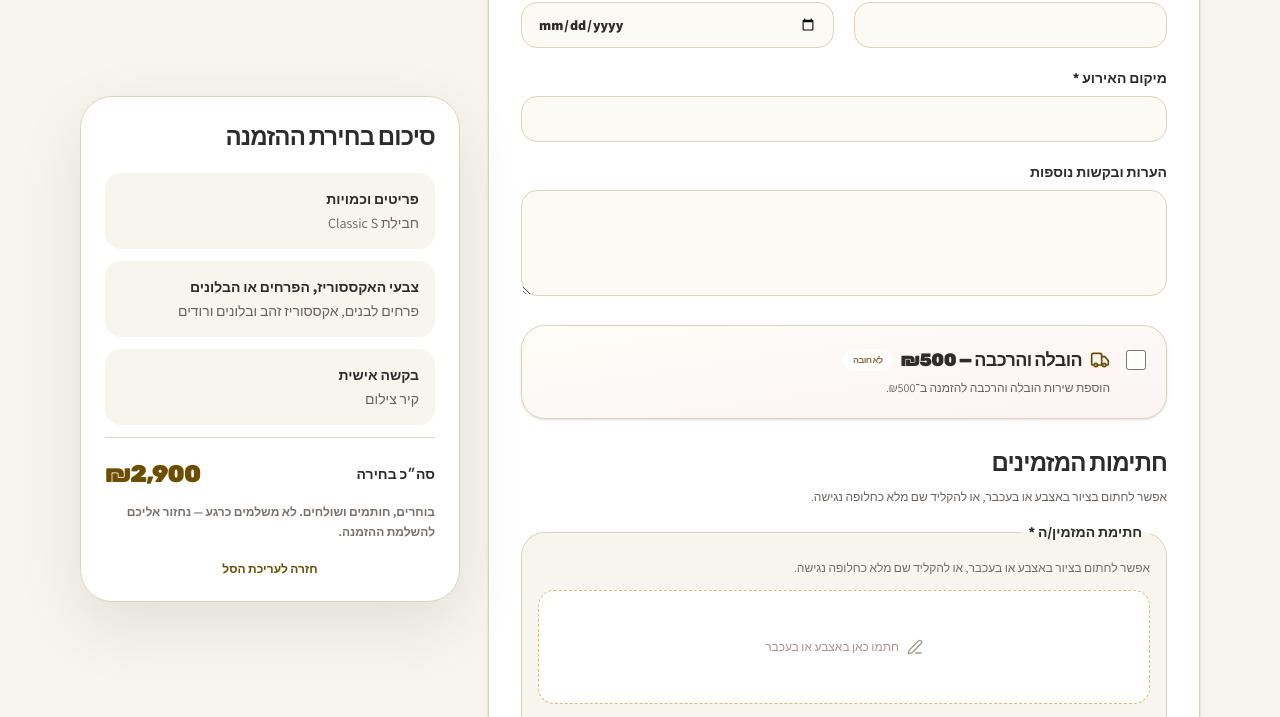
Test: CheckoutPage › adds optional delivery and setup for exactly ₪500
(page scrolled)
Click the checkbox labelled "הוספת שירות הובלה והרכבה".
click(1136, 360)  # box [1126, 350, 1146, 370]
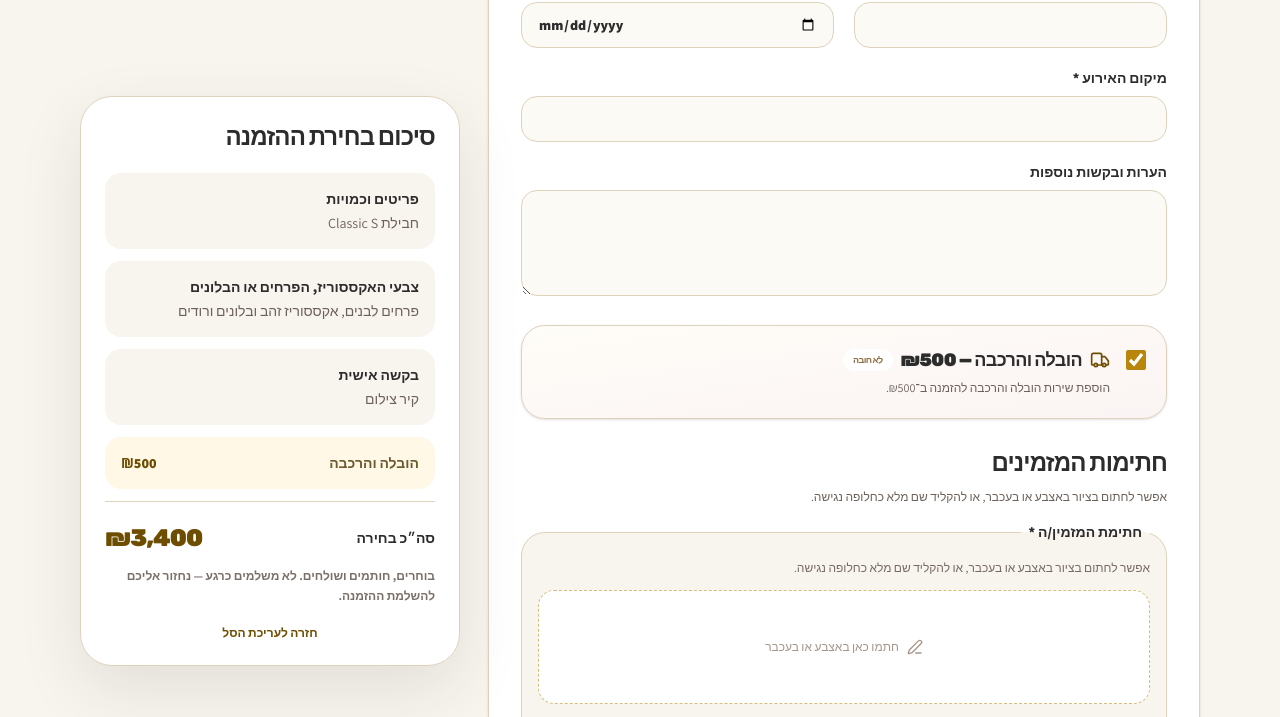
Expected: the text "₪3,400" is shown, [105, 522, 202, 554]
Click the checkbox labelled "הוספת שירות הובלה והרכבה".
click(1136, 360)  # box [1126, 350, 1146, 370]
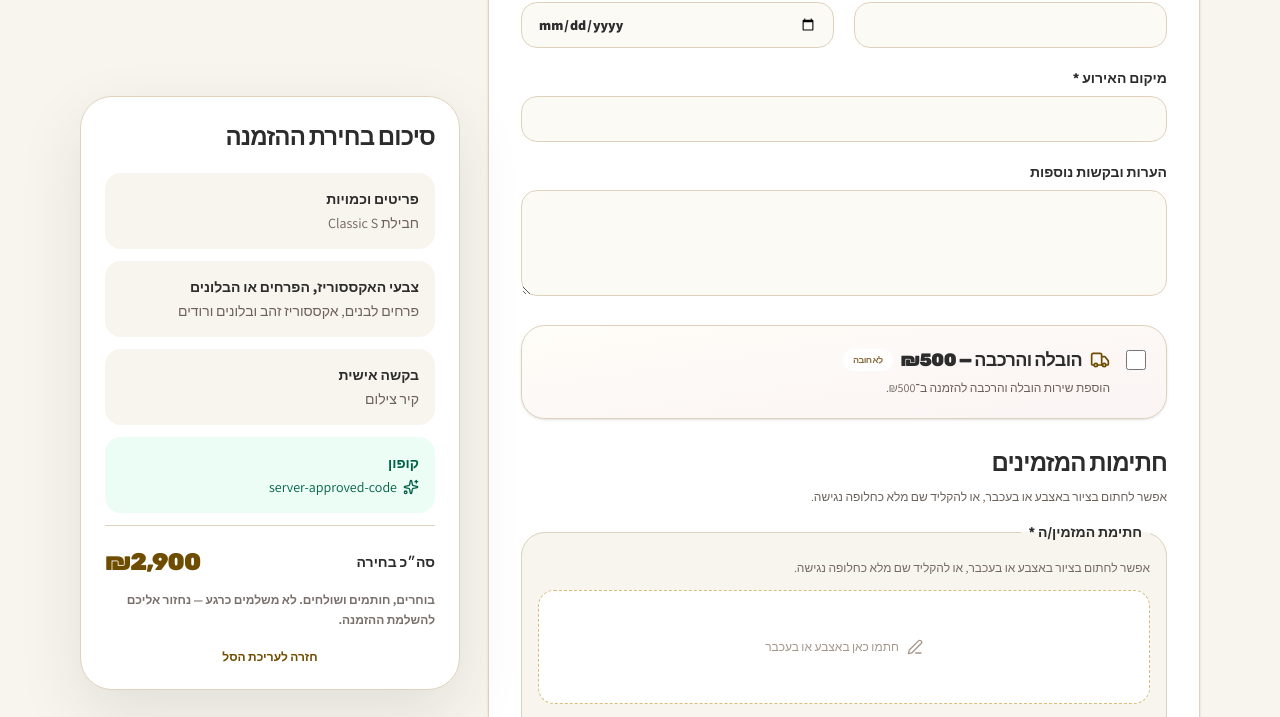
Expected: the text "₪3,400" is gone
